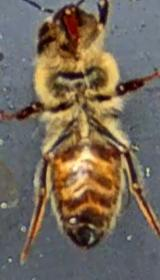varroa_mite: (85, 134, 131, 174)
